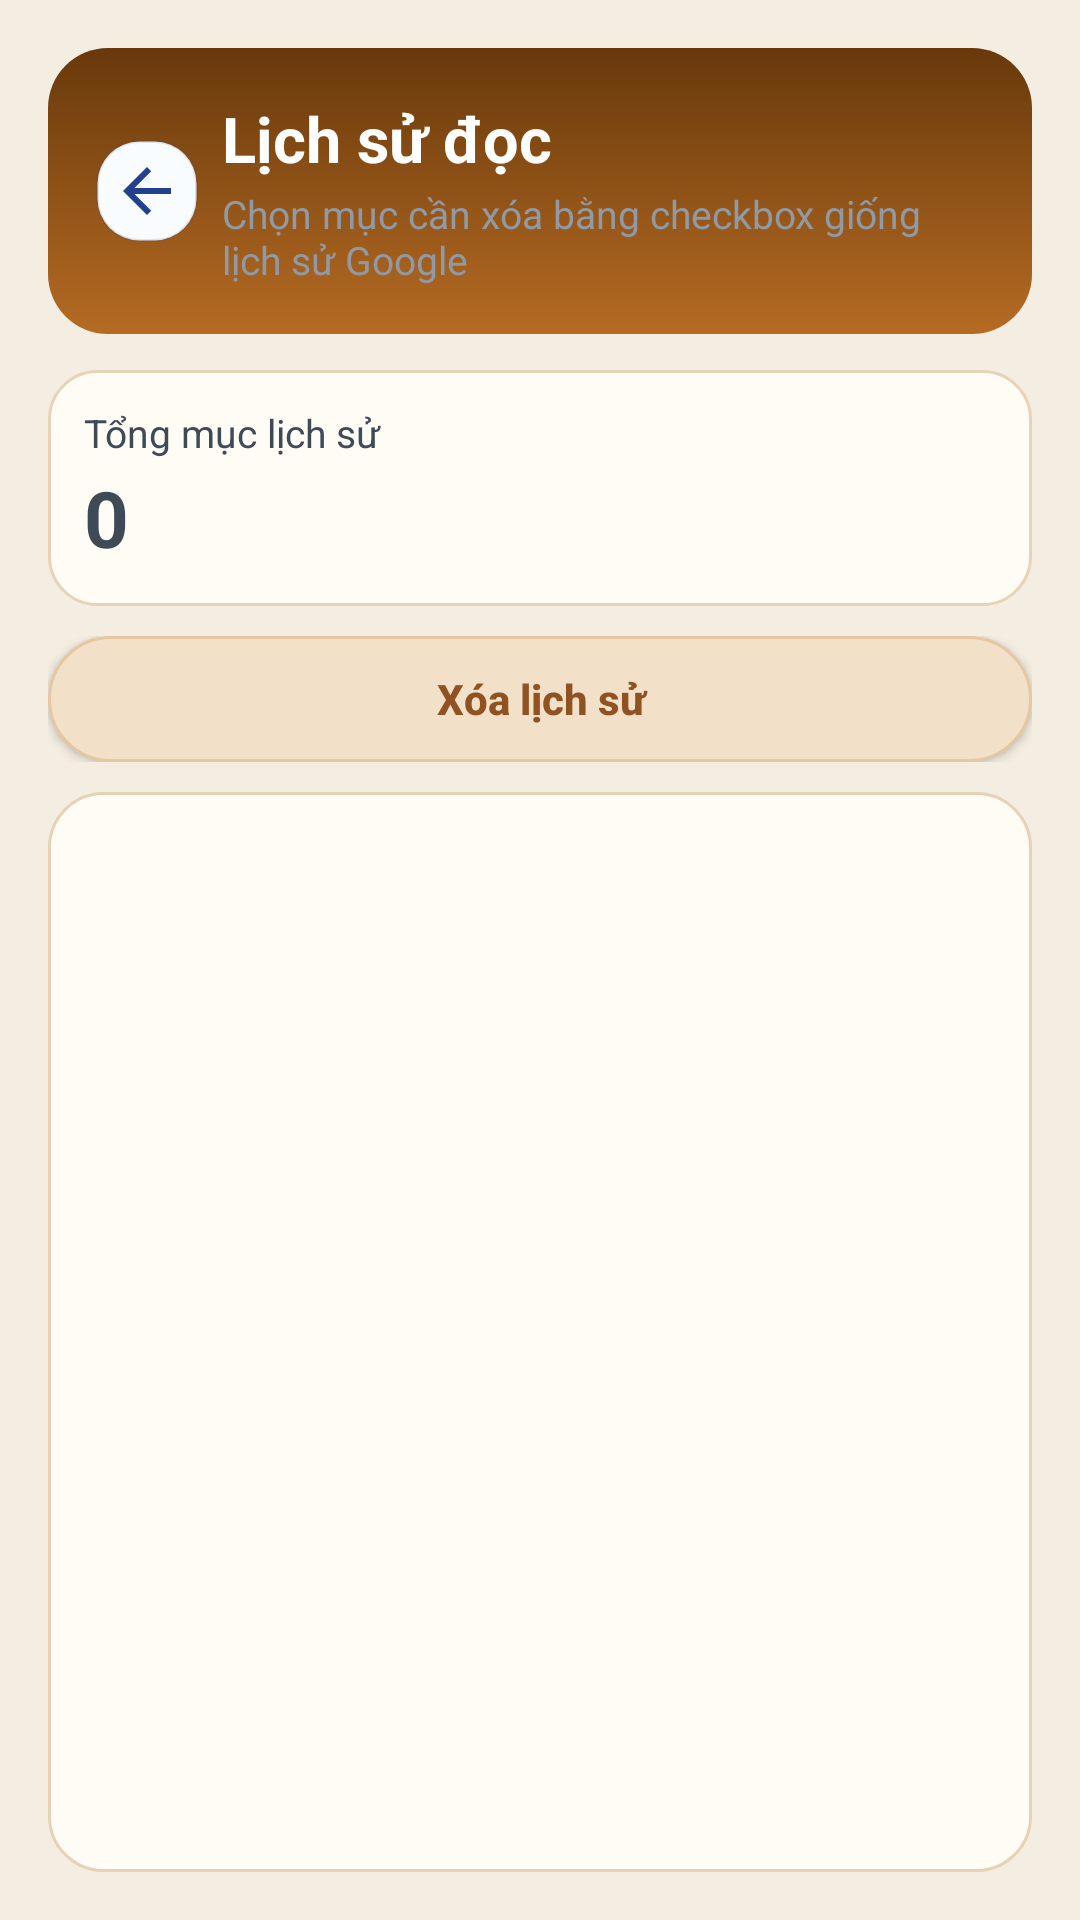

Point at icon controls on the screen. Image size 1080px x 1920px, points as (x,y).
Quay lại: (147,190)
